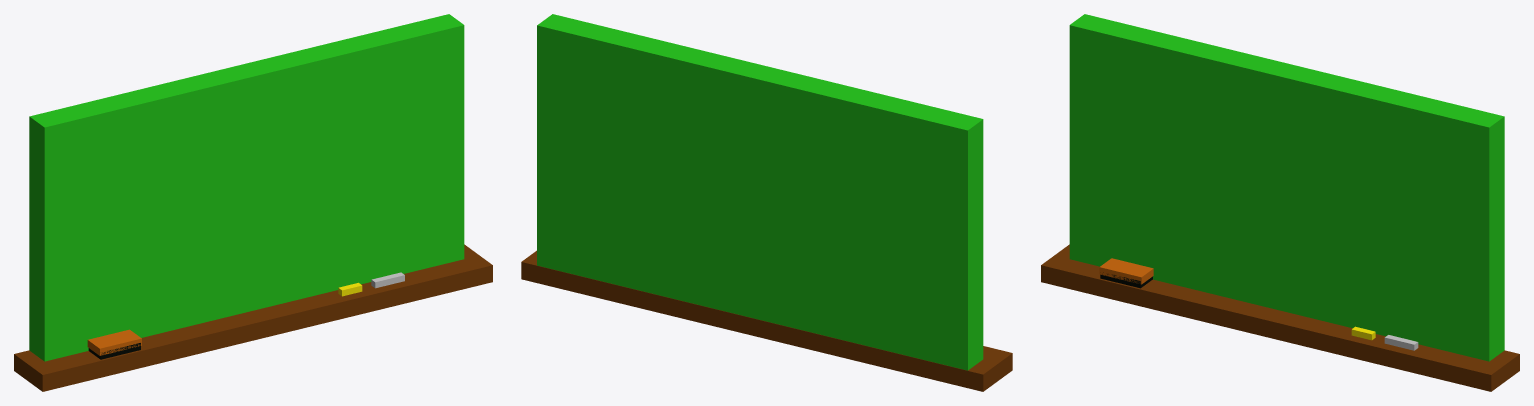
File: kokuban.obj
3 renders of one model, left to right at view 1: azimuth 30°, elevation 25°; view 2: azimuth 150°, elevation 25°; view 3: azimuth 330°, elevation 25°, orthographic. The views are drawn at different scales.
Parts seen in each view (by area): view 1: 黒板_Cube, 木_立方体, 消し手_立方体.003; view 2: 黒板_Cube, 木_立方体; view 3: 黒板_Cube, 木_立方体, 消し手_立方体.003.
Part boxes in pixels (x1,y1,x2,y2): 黒板_Cube: (29, 14, 464, 361); 木_立方体: (14, 244, 492, 391); 消し手_立方体.003: (87, 329, 141, 355); 黒板_Cube: (537, 14, 983, 370); 木_立方体: (521, 250, 1012, 391); 黒板_Cube: (1069, 14, 1504, 361); 木_立方体: (1041, 244, 1519, 391); 消し手_立方体.003: (1099, 258, 1153, 284).
Bounding box in the file's own units: 7.12 × 3.8 × 0.7875.
